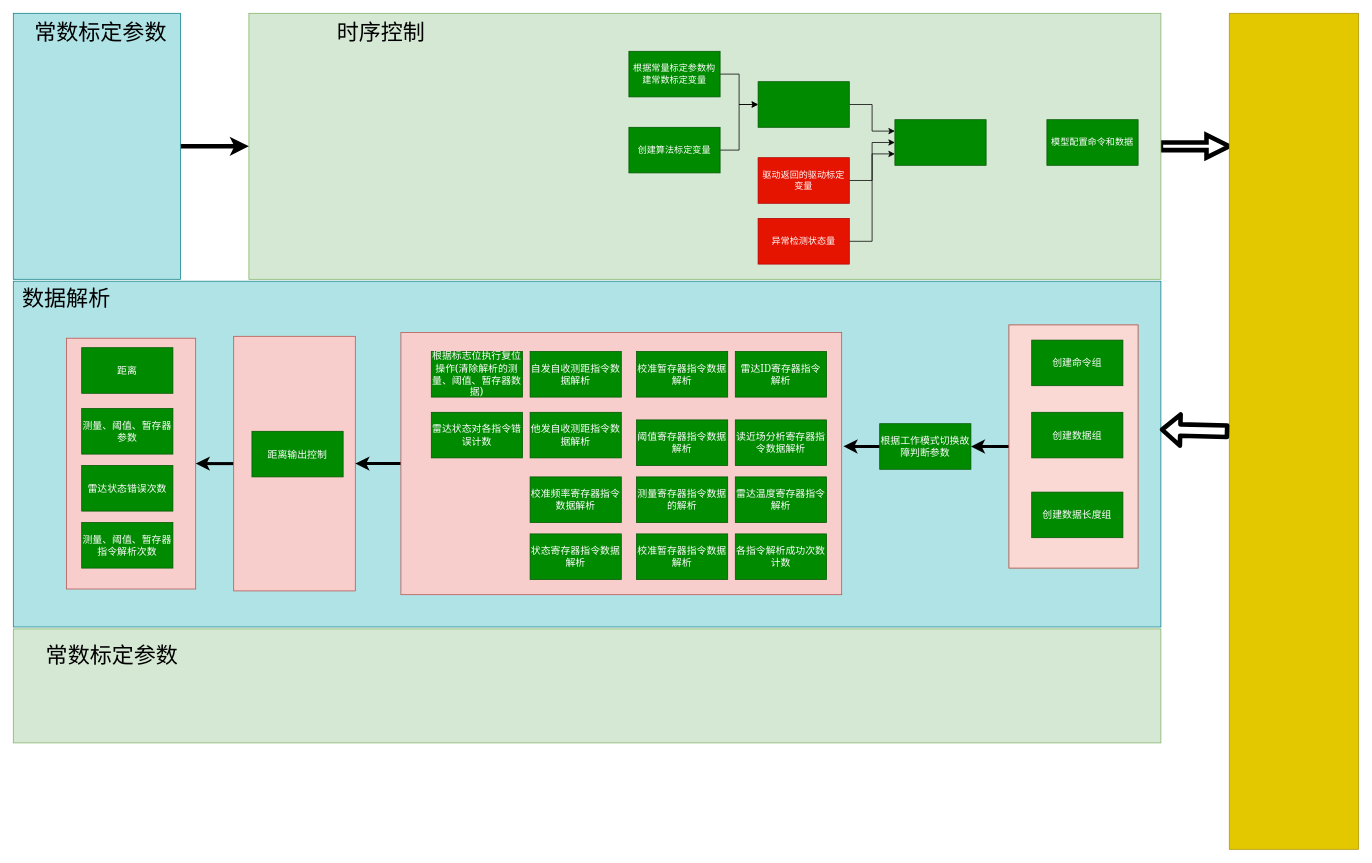
This 1372x863 diagram has some shape labels left out. Here are the shapes that lost their labels. From the top down, the centre of each, then its label:
(803,104): 根据常数标定变量和算法标定标量构建模型标定变量
(940,142): 模型配置参数
(1293,431): 驱动&硬件
